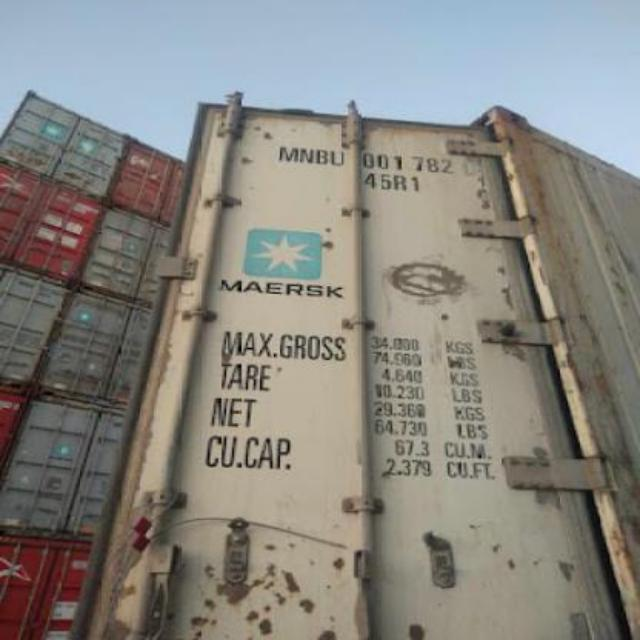0: (374, 152, 396, 168), (462, 159, 476, 177), (362, 152, 376, 168)
1: (392, 154, 404, 172)
2: (442, 157, 456, 175)
7: (411, 154, 424, 172)
8: (426, 156, 439, 174)
B: (316, 149, 329, 165)
M: (278, 140, 300, 163)
N: (300, 148, 314, 164)
U: (328, 149, 346, 167)
